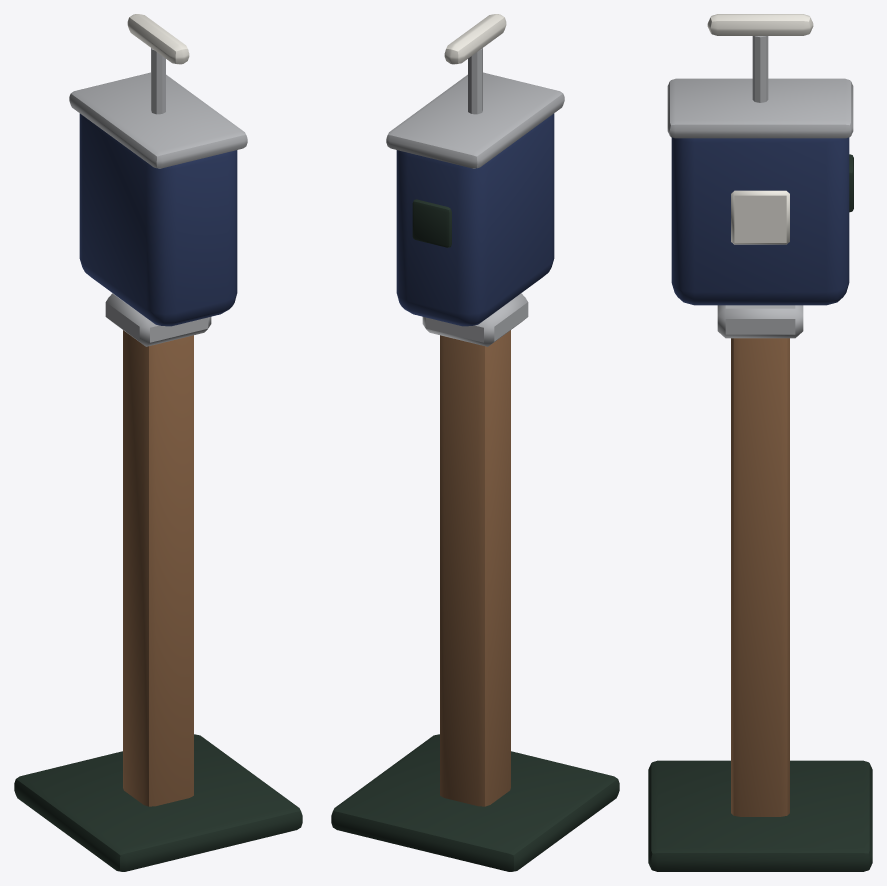
Rendered from BallWasher.fbx.
3 renders of one model, left to right at view 1: azimuth 30°, elevation 25°; view 2: azimuth 150°, elevation 25°; view 3: azimuth 270°, elevation 25°, orthographic. The views are drawn at different scales.
Parts seen in each view (by area): view 1: BallWasher; view 2: BallWasher; view 3: BallWasher.
Part boxes in pixels (x1,y1,x2,y2): BallWasher: (14, 14, 302, 871); BallWasher: (331, 14, 619, 871); BallWasher: (648, 14, 872, 871).
Size of the model in its own units: 0.34 by 1.36 by 0.34.
